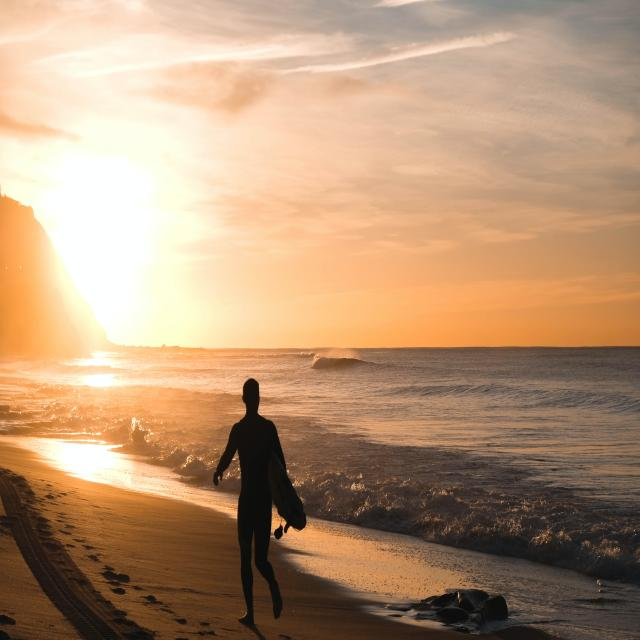running: (209, 374, 288, 640)
